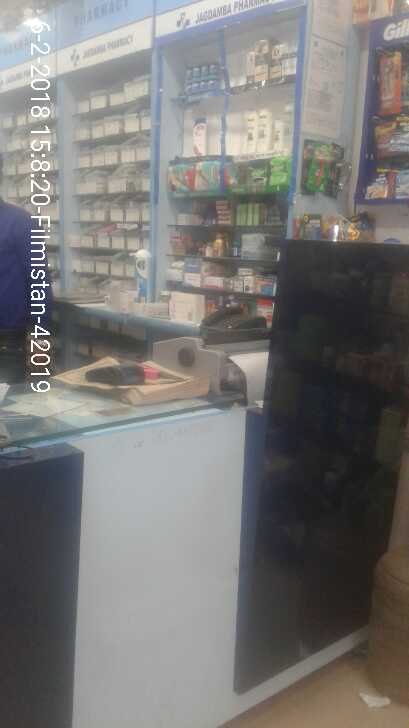vicks: (177, 56, 223, 95), (134, 250, 153, 299)
